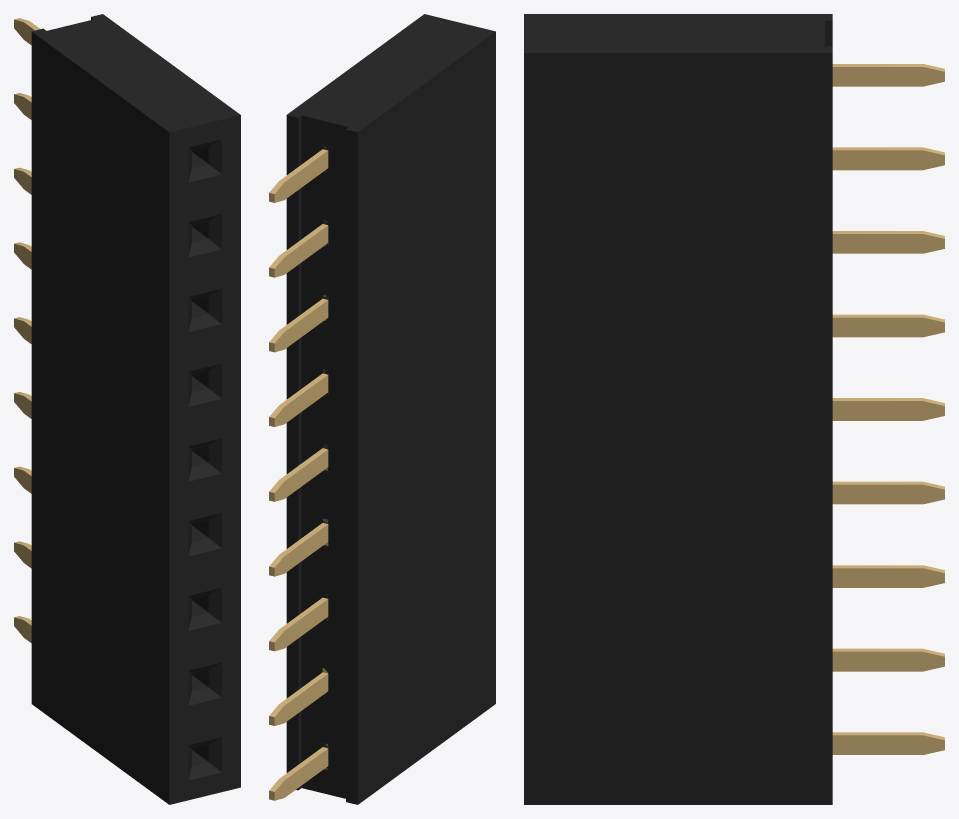
Rendered from socket-1x09.glb.
3 views of the same model, side by side, from view 1: azimuth 30°, elevation 25°; view 2: azimuth 150°, elevation 25°; view 3: azimuth 270°, elevation 25° (orthographic). The views are drawn at different scales.
Visible parts, largest first — view 1: IC-BODY-EPOXY-04, PIN-02; view 2: IC-BODY-EPOXY-04, PIN-02 (×7); view 3: IC-BODY-EPOXY-04, PIN-02 (×7).
Boxes of the visible parts, x1=… form: IC-BODY-EPOXY-04: x1=31, y1=14, x2=240, y2=804; PIN-02: x1=14, y1=18, x2=40, y2=642; IC-BODY-EPOXY-04: x1=286, y1=14, x2=495, y2=804; PIN-02 (×7): x1=269, y1=147, x2=328, y2=800; IC-BODY-EPOXY-04: x1=524, y1=14, x2=832, y2=804; PIN-02 (×7): x1=832, y1=64, x2=944, y2=754.
Bounding box in the file's own units: 2.54 × 22.86 × 11.6.
